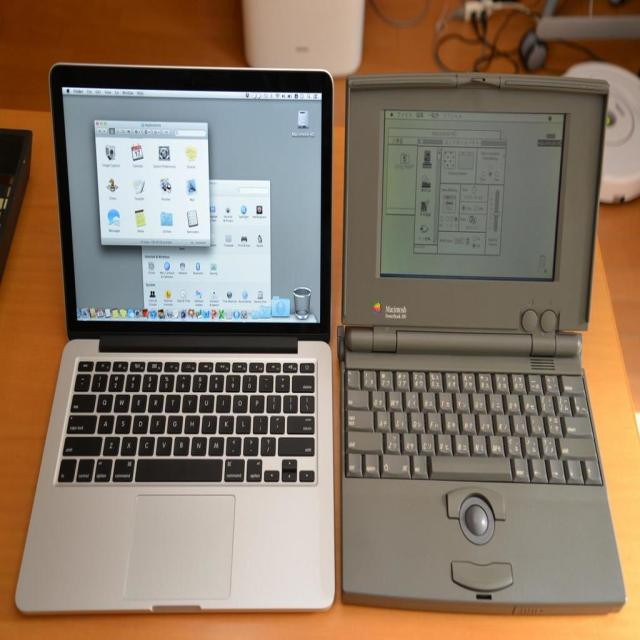laptop: (19, 62, 335, 621)
